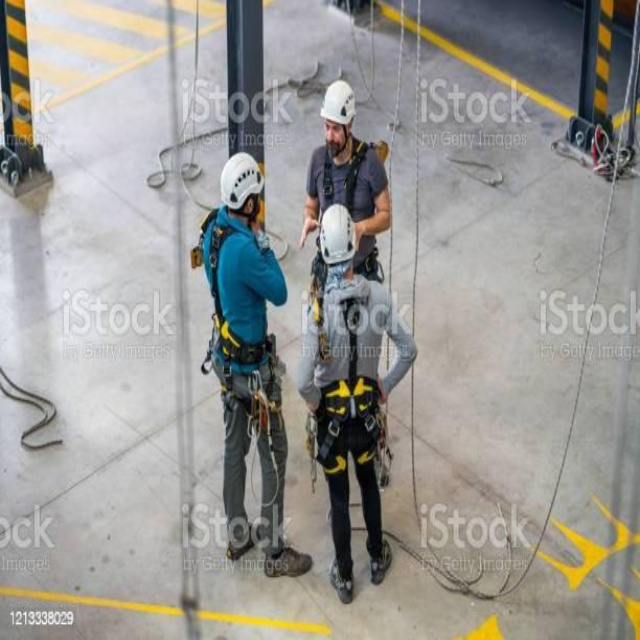Arnes_seguridad: (194, 200, 282, 437), (299, 276, 392, 479), (305, 126, 390, 296)
